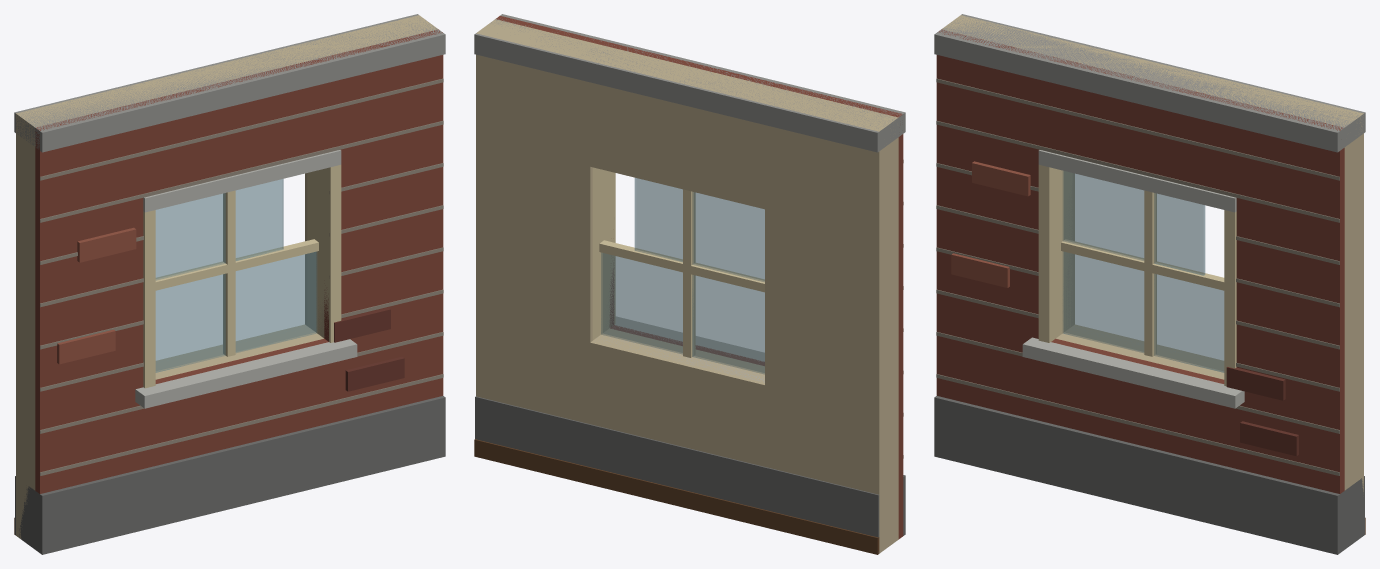
File: SM_Bld_Wall_Brick_Window_01.glb
The picture shows the model from 3 angles, left to right: view 1: azimuth 30°, elevation 25°; view 2: azimuth 150°, elevation 25°; view 3: azimuth 330°, elevation 25°; orthographic projection.
Parts seen in each view (by area): view 1: SM_Bld_Wall_Brick_Window_01; view 2: SM_Bld_Wall_Brick_Window_01; view 3: SM_Bld_Wall_Brick_Window_01.
Part boxes in pixels (x1,y1,x2,y2): SM_Bld_Wall_Brick_Window_01: [14, 14, 445, 554]; SM_Bld_Wall_Brick_Window_01: [474, 14, 905, 554]; SM_Bld_Wall_Brick_Window_01: [934, 14, 1365, 554].
Bounding box in the file's own units: 3 × 3 × 0.45.
Materials: 2 (2 with a texture image).
